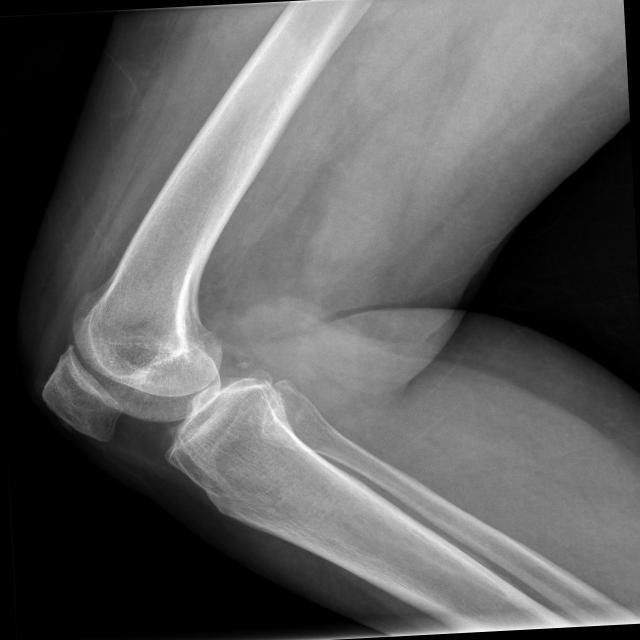Knee: (33, 284, 293, 506)
